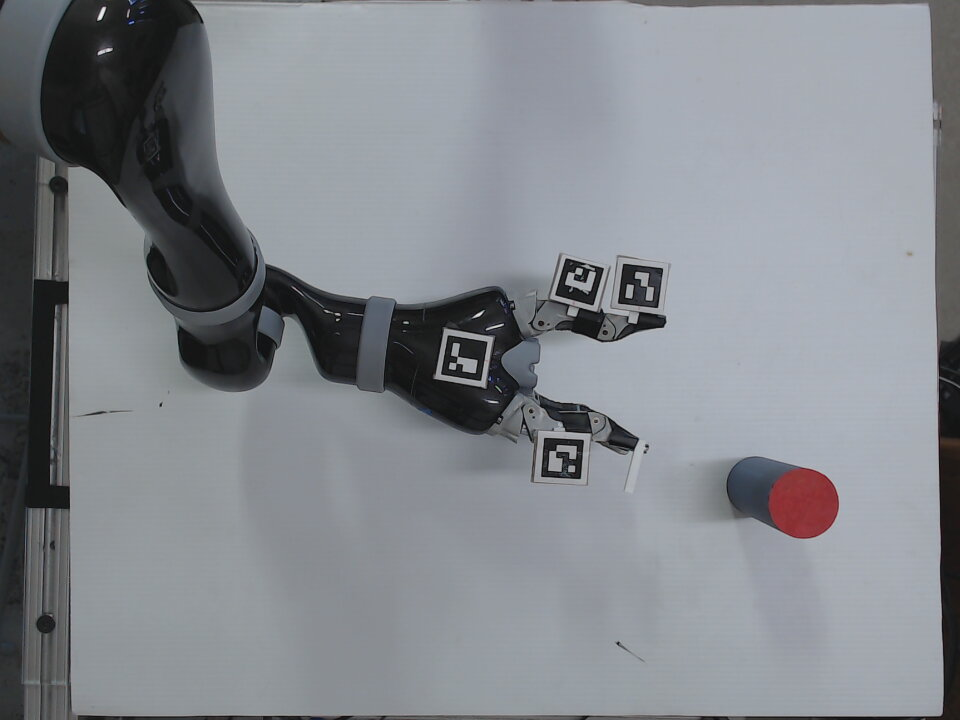cylinder: (724, 452, 843, 542)
